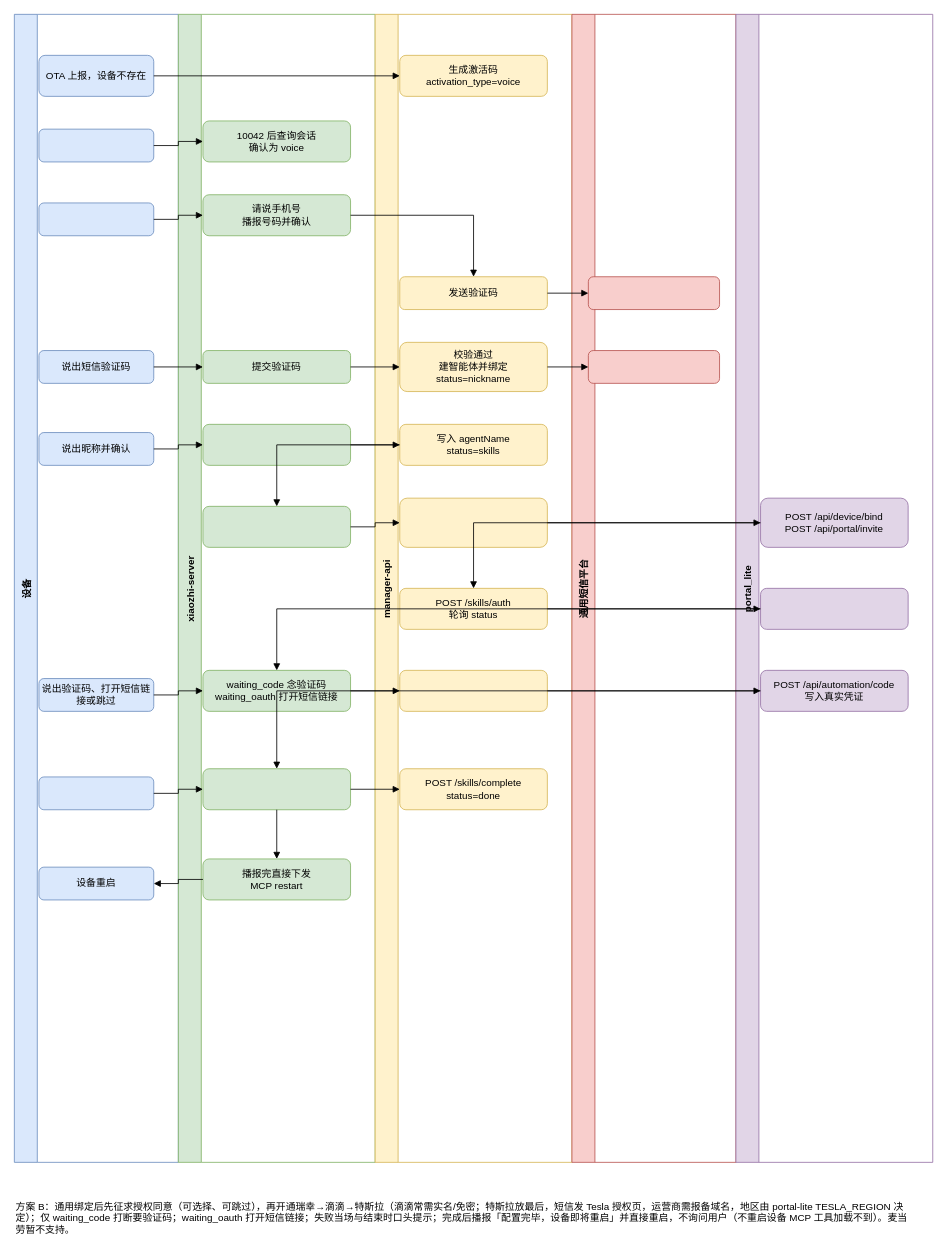
This 947x1251 diagram has some shape labels left out. The shapes that lost their labels are listed below. From the top down, each one's centre as x and y in pixels, then its label:
At (x=96, y=145): "连接 WebSocket".
At (x=96, y=219): "说出手机号并确认".
At (x=654, y=293): "SendSmsVerifyCode".
At (x=654, y=366): "CheckSmsVerifyCode".
At (x=276, y=444): "绑定成功 请说助手昵称并确认".
At (x=276, y=526): "自动通用绑定 再默认开瑞幸→滴滴→特斯拉".
At (x=473, y=522): "POST /skills bind + invite Redis 缓存 token".
At (x=834, y=608): "automation 或 tesla/oauth/start status / auth-status.tesla".
At (x=473, y=690): "POST /skills/auth/code 或 cancel".
At (x=96, y=793): "播放「配置完毕，设备即将重启」".
At (x=276, y=789): "瑞幸→滴滴→特斯拉做完 汇总失败后直接重启".
